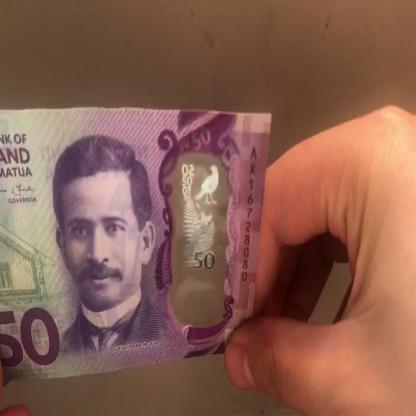50F: (174, 157, 222, 317)
